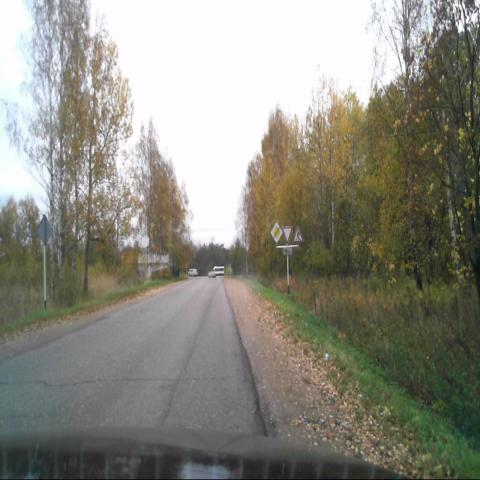2_2: (270, 222, 282, 244)
